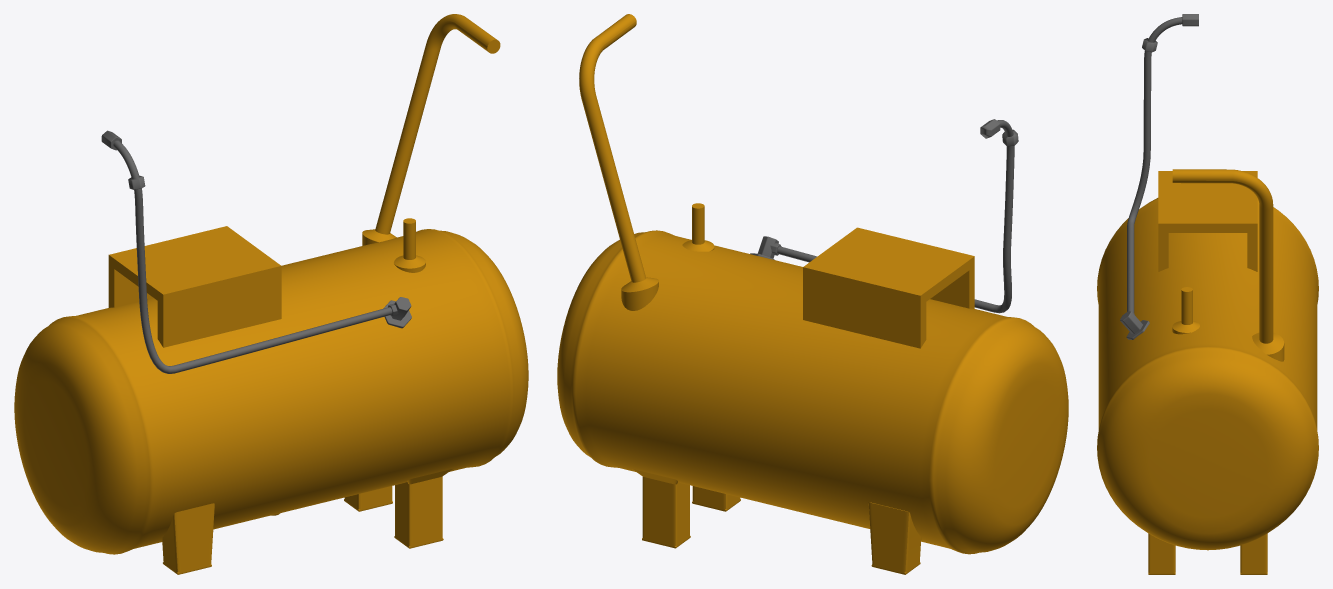
Rendered from 空压机金色罐体加弯管.glb.
3 renders of one model, left to right at view 1: azimuth 30°, elevation 25°; view 2: azimuth 150°, elevation 25°; view 3: azimuth 270°, elevation 25°, orthographic. The views are drawn at different scales.
Visible parts, largest first — view 1: 银色弯管.005; view 2: 银色弯管.005; view 3: 银色弯管.005.
Part boxes in pixels (<box>): 银色弯管.005: <box>14,14,528,574</box>; 银色弯管.005: <box>557,14,1068,574</box>; 银色弯管.005: <box>1097,14,1318,574</box>.
Bounding box in the file's own units: 0.7456 × 0.7869 × 0.365.
